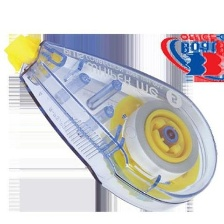correction_fluid: (2, 31, 219, 213)
